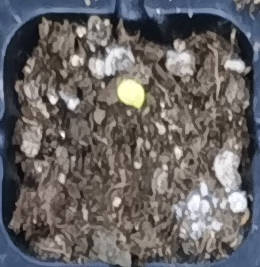pepper seed: (44, 24, 189, 134)
